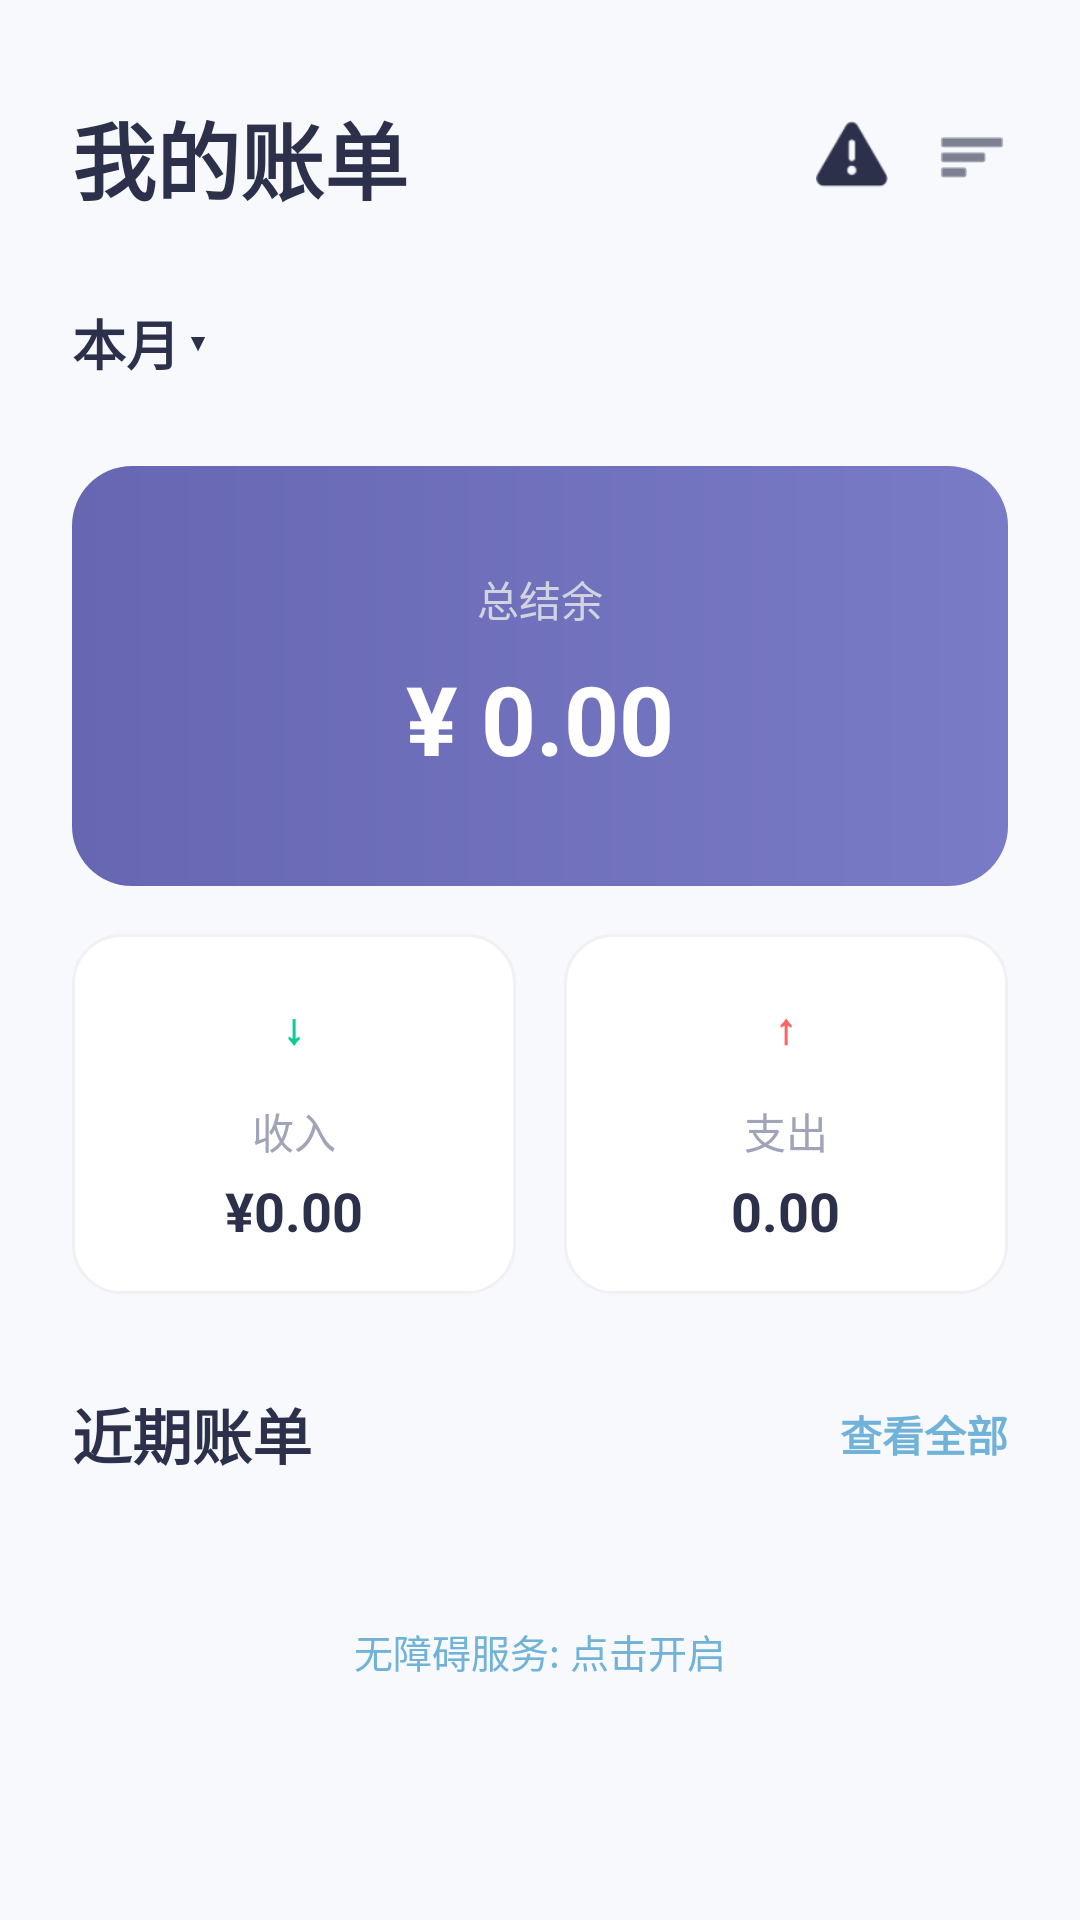

Icons on this 1080 x 1920 Android screen, each with its box as (x1, y1, x2, y2):
alert: (816, 121, 888, 187)
sort by size: (941, 137, 1003, 178)
